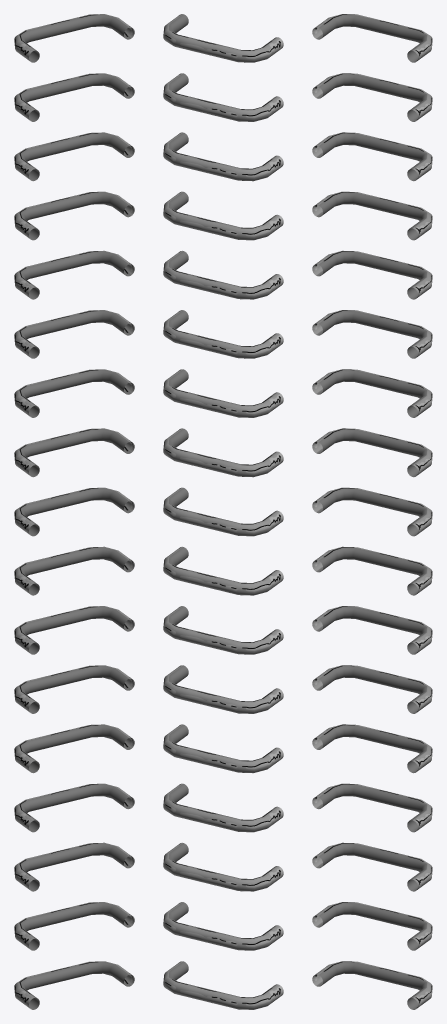
Rendered from Ladder.fbx.
3 renders of one model, left to right at view 1: azimuth 30°, elevation 25°; view 2: azimuth 150°, elevation 25°; view 3: azimuth 330°, elevation 25°, orthographic.
Parts seen in each view (by area): view 1: Ladder; view 2: Ladder; view 3: Ladder.
Boxes of the visible parts, x1=… form: Ladder: x1=14, y1=14, x2=134, y2=1009; Ladder: x1=163, y1=14, x2=283, y2=1009; Ladder: x1=312, y1=14, x2=432, y2=1009.
Bounding box in the file's own units: 40.35 × 350 × 17.2.
